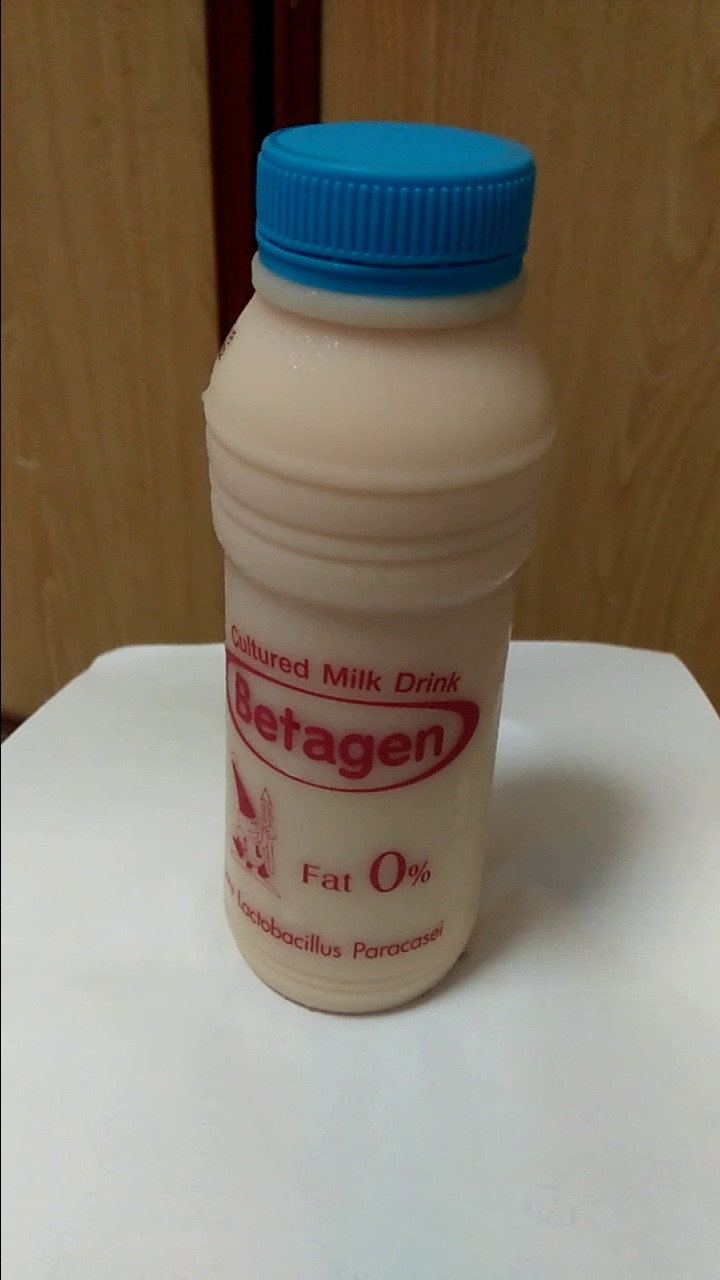mlik2: (207, 127, 515, 1019)
